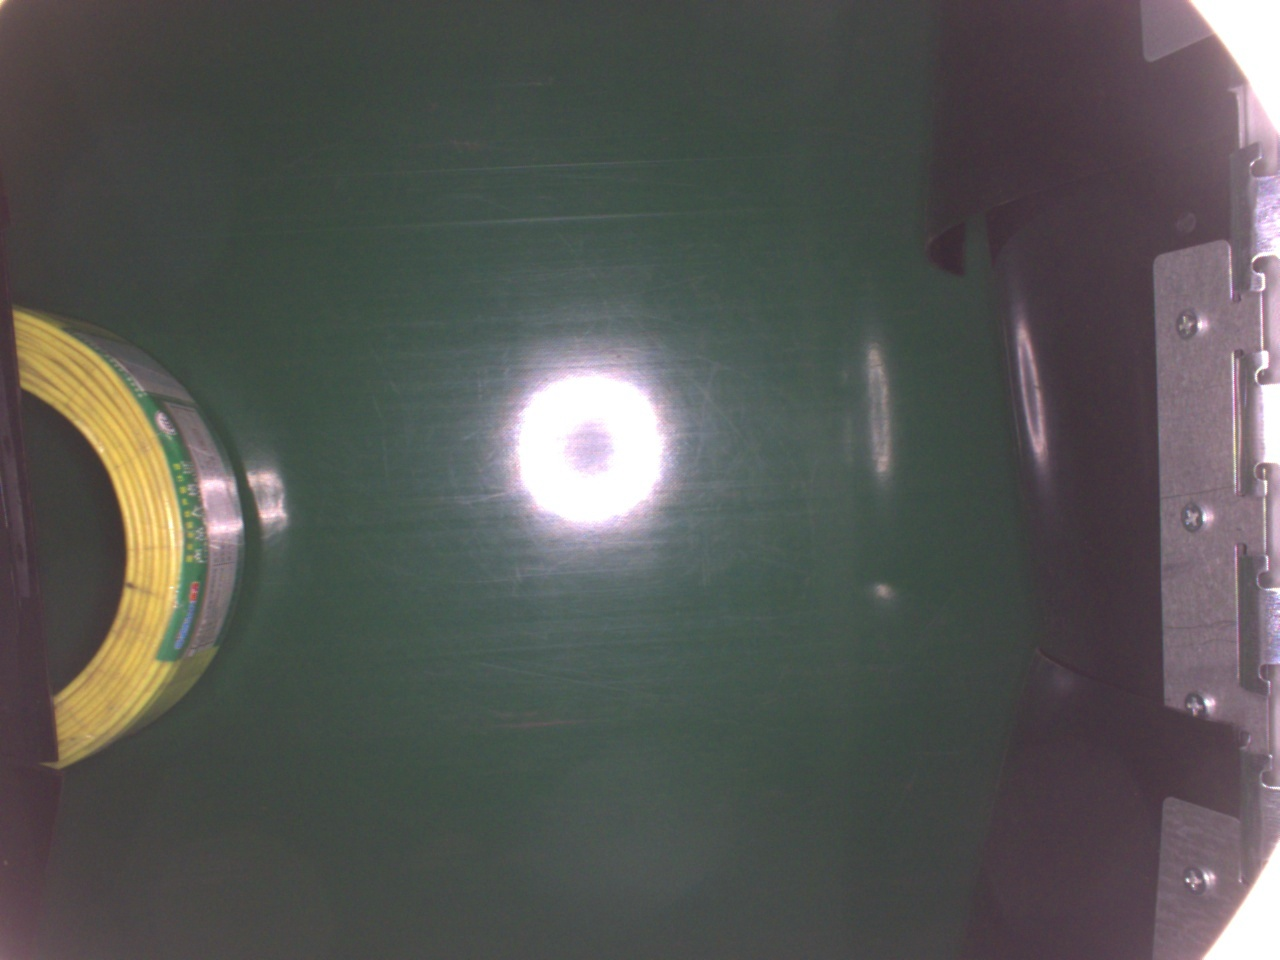yellow: (11, 301, 246, 769)
